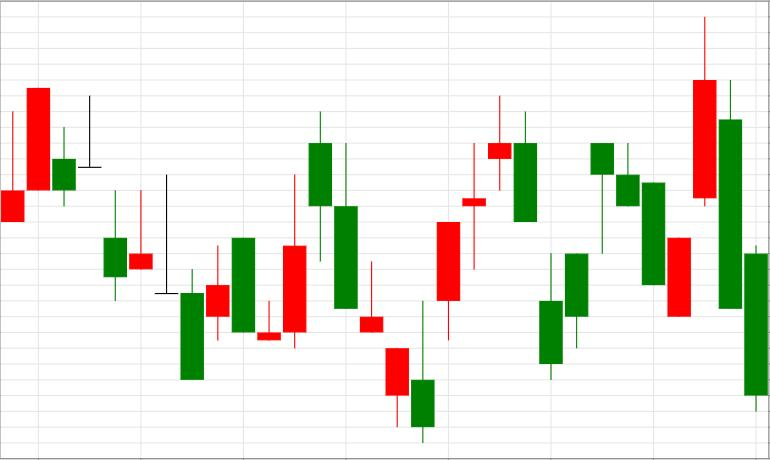inverse_hammer_rise: (309, 110, 434, 444)
